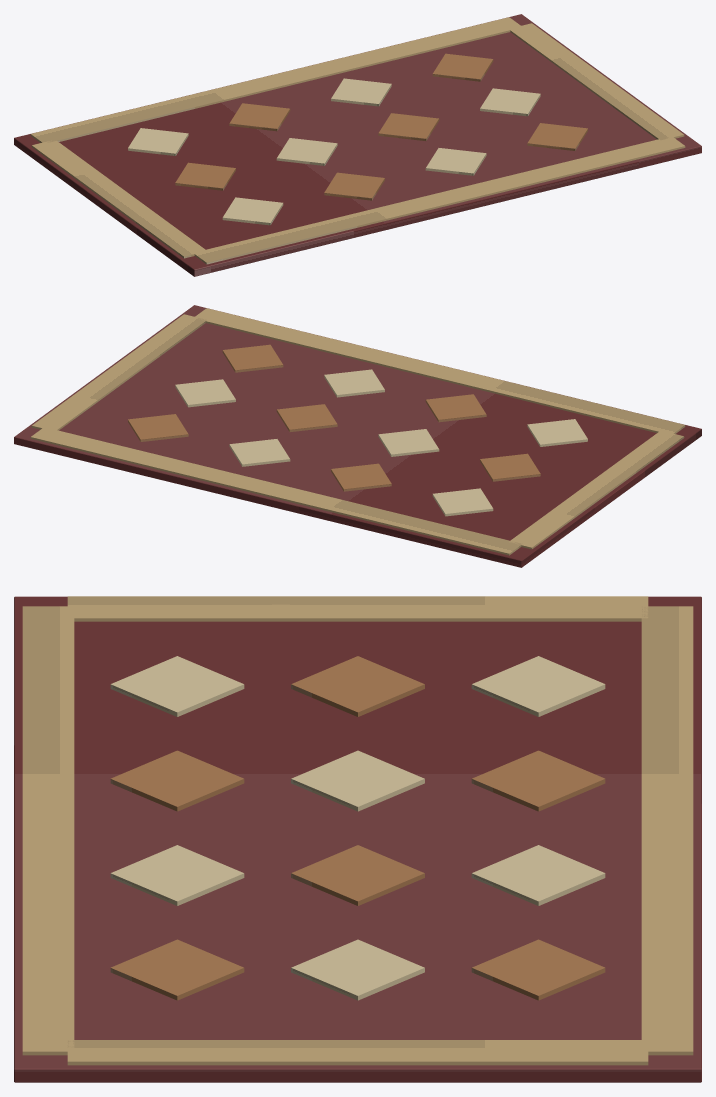
The model's file is mansion_area_rug.glb.
3 views of the same model, one above another, from view 1: azimuth 30°, elevation 25°; view 2: azimuth 150°, elevation 25°; view 3: azimuth 270°, elevation 25° (orthographic). The views are drawn at different scales.
Visible parts, largest first — view 1: RugField, RugBorderY_-0.72, RugBorderY_0.72, RugBorderX_-1.22, RugBorderX_1.22, RugMotif_0_0, RugMotif_2_3, RugMotif_2_2, RugMotif_0_2, RugMotif_1_1, RugMotif_1_2, RugMotif_1_3 (+5 smaller); view 2: RugField, RugBorderY_0.72, RugBorderY_-0.72, RugBorderX_1.22, RugBorderX_-1.22, RugMotif_2_0, RugMotif_0_3, RugMotif_0_2, RugMotif_0_1, RugMotif_1_1, RugMotif_1_2, RugMotif_1_3 (+5 smaller); view 3: RugField, RugBorderY_-0.72, RugBorderY_0.72, RugBorderX_-1.22, RugBorderX_1.22, RugMotif_0_2, RugMotif_2_2, RugMotif_0_0, RugMotif_2_0, RugMotif_0_1, RugMotif_0_3, RugMotif_2_1 (+5 smaller).
Boxes of the visible parts, x1,y1,x2,y2 form: RugField: (14,14,701,276); RugBorderY_-0.72: (193,136,685,264); RugBorderY_0.72: (30,17,522,142); RugBorderX_-1.22: (31,140,206,258); RugBorderX_1.22: (509,23,684,140); RugMotif_0_0: (222,197,283,225); RugMotif_2_3: (432,53,493,81); RugMotif_2_2: (331,78,391,106); RugMotif_0_2: (425,148,486,175); RugMotif_1_1: (276,138,337,165); RugMotif_1_2: (378,113,439,140); RugMotif_1_3: (480,88,540,116); RugField: (14,305,701,567); RugBorderY_0.72: (30,427,522,555); RugBorderY_-0.72: (194,308,685,434); RugBorderX_1.22: (31,314,206,431); RugBorderX_-1.22: (509,432,684,549); RugMotif_2_0: (432,488,493,516); RugMotif_0_3: (222,344,283,372); RugMotif_0_2: (324,369,384,397); RugMotif_0_1: (425,394,486,422); RugMotif_1_1: (378,429,439,456); RugMotif_1_2: (276,404,337,431); RugMotif_1_3: (175,379,235,407); RugField: (14,596,701,1082); RugBorderY_-0.72: (22,606,74,1055); RugBorderY_0.72: (641,606,693,1055); RugBorderX_-1.22: (67,596,648,621); RugBorderX_1.22: (67,1040,648,1065); RugMotif_0_2: (110,845,244,905); RugMotif_2_2: (471,845,605,905); RugMotif_0_0: (110,656,244,716); RugMotif_2_0: (471,656,605,716); RugMotif_0_1: (110,750,244,811); RugMotif_0_3: (110,939,244,1000); RugMotif_2_1: (471,750,605,811).
Bounding box in the file's own units: 2.6 × 0.053 × 1.6.
1 material, 1 textured.
